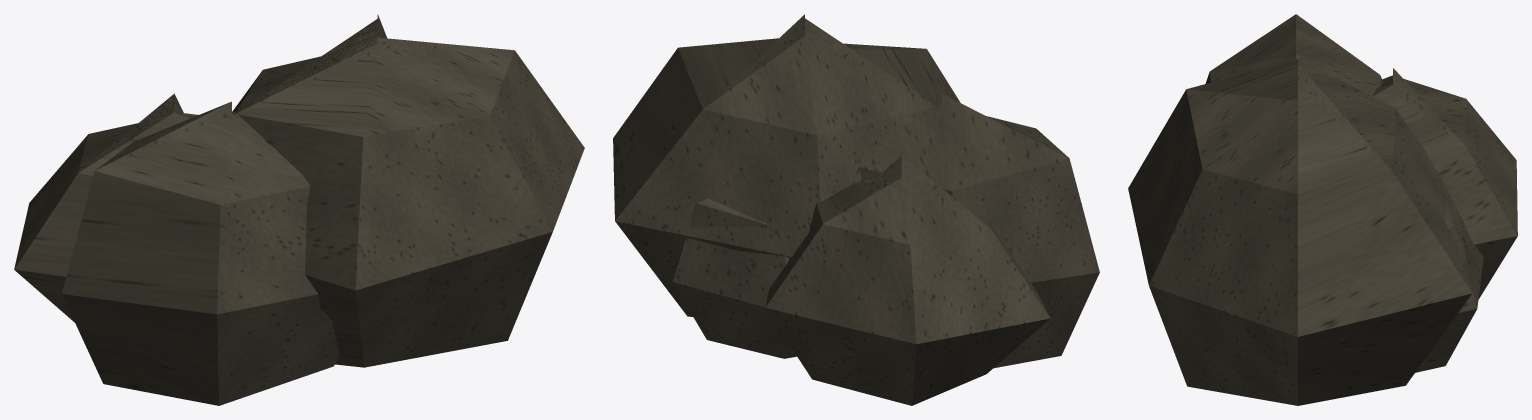
Rendered from PROP-45E813BF273E_lod2.glb.
The picture shows the model from 3 angles, left to right: view 1: azimuth 30°, elevation 25°; view 2: azimuth 150°, elevation 25°; view 3: azimuth 270°, elevation 25°; orthographic projection. The views are drawn at different scales.
Parts seen in each view (by area): view 1: rock.010; view 2: rock.010; view 3: rock.010.
Boxes of the visible parts, x1=… form: rock.010: x1=14, y1=14, x2=584, y2=405; rock.010: x1=613, y1=14, x2=1099, y2=405; rock.010: x1=1128, y1=14, x2=1517, y2=405.
Bounding box in the file's own units: 1.84 × 1.01 × 1.24.
Materials: 1 (1 with a texture image).
